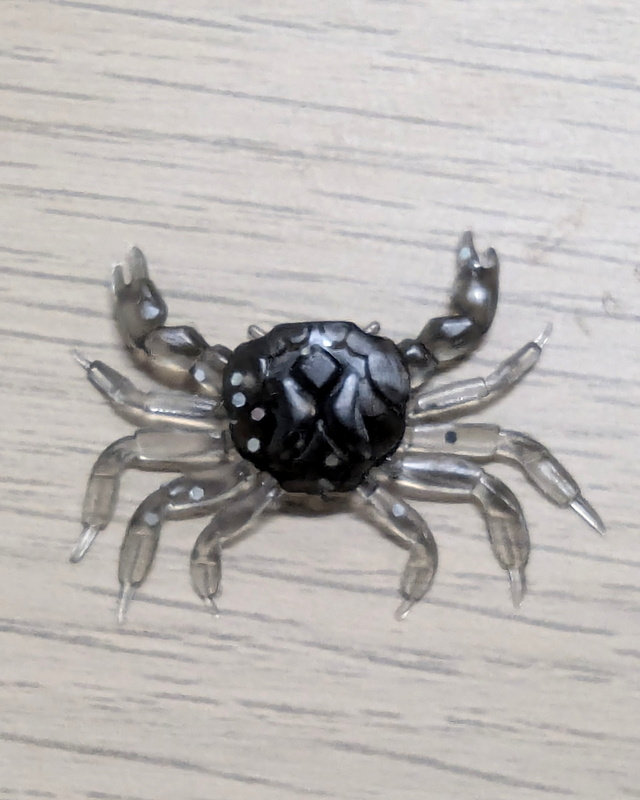crab1: (66, 229, 606, 625)
